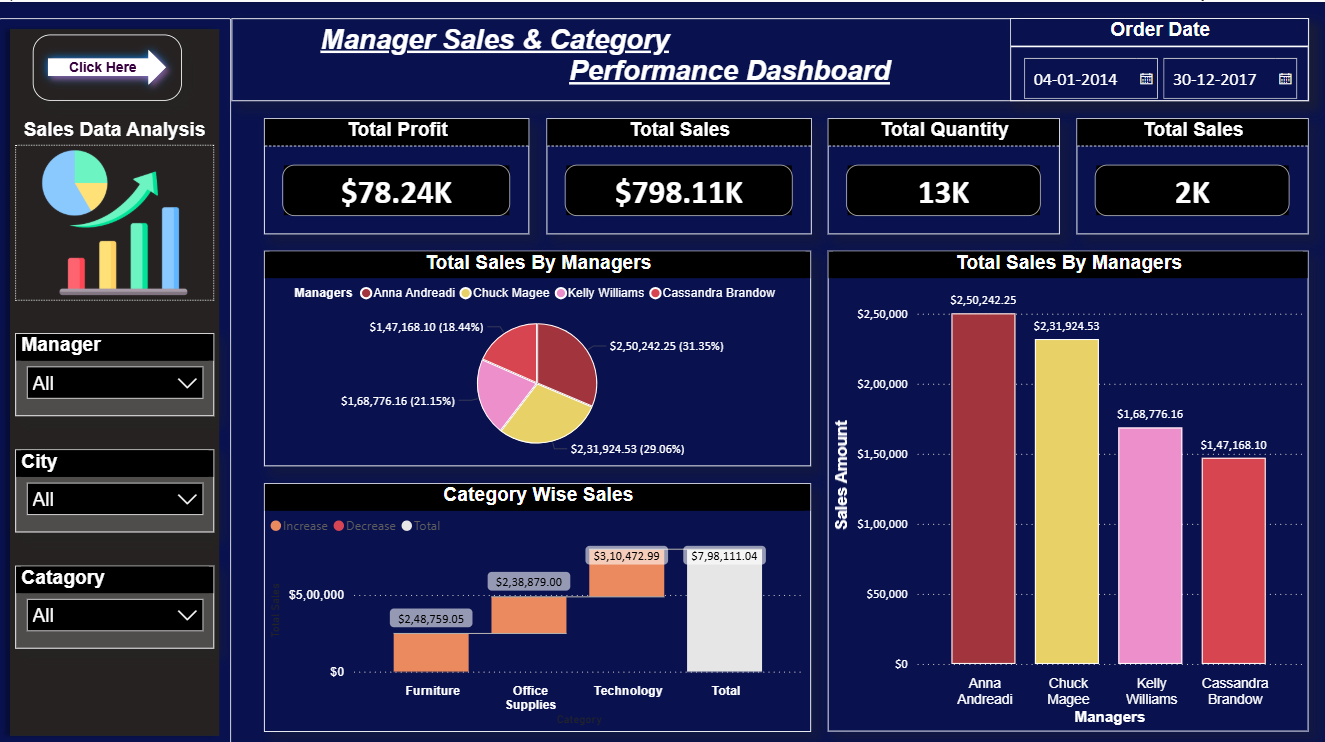

What the dashboard file says about the page in this screenshot:
{"tool":"powerbi","page":{"name":"Report-1","canvas":[1280,720],"ordinal":0},"visuals":[{"type":"shape","box":[0,16,224,704],"z":0,"group":"g1"},{"type":"textbox","box":[224,16,1040,80],"z":0,"group":"g2"},{"type":"cardVisual","title":"Total Profit","fields":{"Data":["Project 2 Data.Total Profit"]},"box":[256,112,256,112],"z":0},{"type":"slicer","title":"Order Date","fields":{"Values":["Project 2 Data.Order Date"]},"box":[976,16,288,80],"z":1000,"group":"g2"},{"type":"cardVisual","title":"Total Sales","fields":{"Data":["Project 2 Data.Total Sales"]},"box":[528,112,256,112],"z":1000},{"type":"slicer","title":"City","fields":{"Values":["Project 2 Data.City"]},"box":[16,432,192,80],"z":1000,"group":"g1"},{"type":"cardVisual","title":"Total Quantity","fields":{"Data":["Project 2 Data.Total Quantity"]},"box":[800,112,224,112],"z":2000},{"type":"slicer","title":"Manager","fields":{"Values":["People.Person"]},"box":[16,320,192,80],"z":2000,"group":"g1"},{"type":"cardVisual","title":"Total Sales","fields":{"Data":["Project 2 Data.Total Order Count"]},"box":[1040,112,224,112],"z":3000},{"type":"slicer","title":"Catagory","fields":{"Values":["Project 2 Data.Category"]},"box":[16,544,192,80],"z":3000,"group":"g1"},{"type":"pieChart","title":"Total Sales By Managers","fields":{"Category":["People.Person"],"Y":["Project 2 Data.Total Sales"]},"box":[256,240,528,208],"z":4000},{"type":"columnChart","title":"Total Sales By Managers","fields":{"Category":["People.Person"],"Y":["Project 2 Data.Total Sales"]},"box":[800,240,464,464],"z":5000},{"type":"waterfallChart","title":"Category Wise Sales","fields":{"Y":["Project 2 Data.Total Sales"],"Category":["Project 2 Data.Category"]},"box":[256,464,528,240],"z":6000},{"type":"group","id":"g1","title":"Group 1","box":[0,16,224,704],"z":7000},{"type":"image","title":"Sales Data Analysis ","box":[16,112,192,176],"z":8000},{"type":"shape","box":[32,32,144,64],"z":8003,"group":"g1"},{"type":"group","id":"g2","title":"Group 2","box":[224,16,1040,80],"z":9000}]}

Visuals, with their boxes in screenshot pixels (x1, y1, x2, y2), scaled from the page's 1280x720 canvas onto the 1325x742 screenshot:
shape: 0/16/232/741
textbox: 232/16/1308/99
"Total Profit" cardVisual: 265/115/530/231
"Order Date" slicer: 1010/16/1308/99
"Total Sales" cardVisual: 547/115/812/231
"City" slicer: 17/445/215/528
"Total Quantity" cardVisual: 828/115/1060/231
"Manager" slicer: 17/330/215/412
"Total Sales" cardVisual: 1077/115/1308/231
"Catagory" slicer: 17/561/215/643
"Total Sales By Managers" pieChart: 265/247/812/462
"Total Sales By Managers" columnChart: 828/247/1308/726
"Category Wise Sales" waterfallChart: 265/478/812/726
"Group 1" group: 0/16/232/741
"Sales Data Analysis " image: 17/115/215/297
shape: 33/33/182/99
"Group 2" group: 232/16/1308/99
